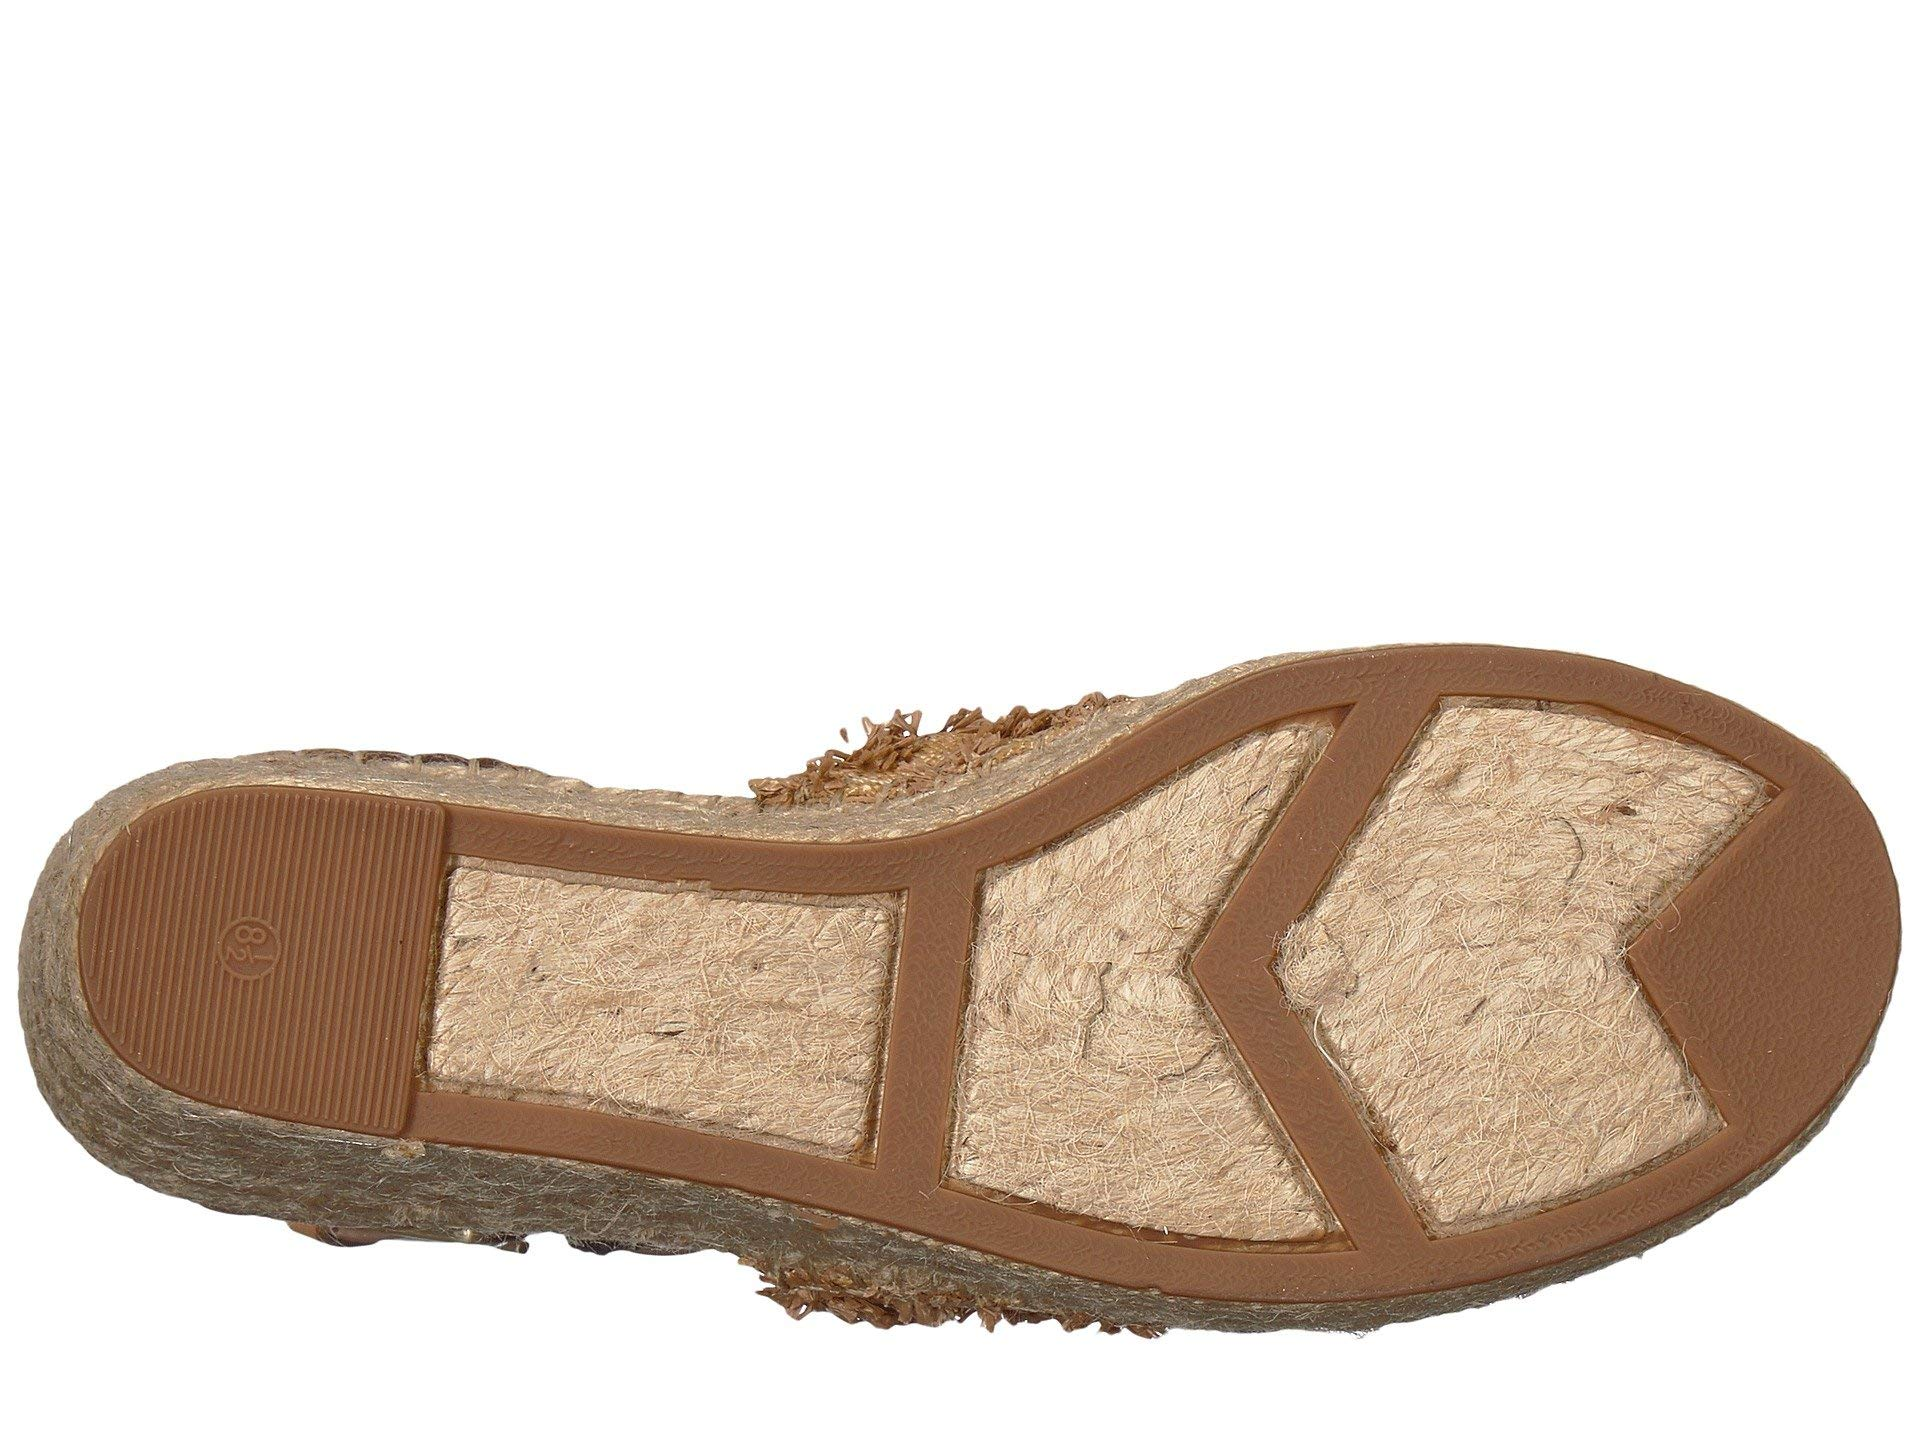chevron: (1262, 644, 1822, 1249)
circle: (141, 861, 395, 1085)
line: (141, 861, 395, 1085)
quad: (395, 824, 931, 1213)
text: (141, 861, 395, 1085)
